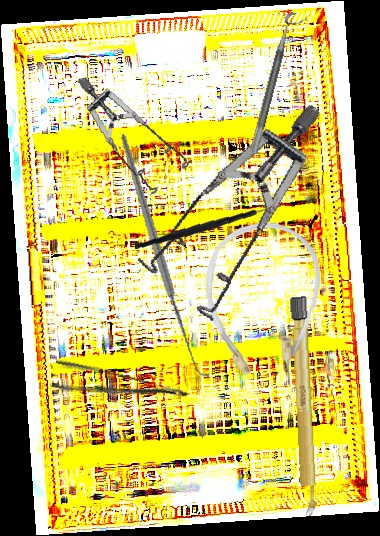Cannula: (206, 222, 320, 387)
Chopper: (135, 187, 279, 259)
Dressing Forceps: (49, 357, 189, 421)
Fixation Ring: (248, 10, 308, 158)
Hook Surgical: (72, 132, 259, 379)
Scalpel Handle: (288, 295, 319, 519)
Speculum: (108, 102, 376, 339), (76, 62, 198, 204)
